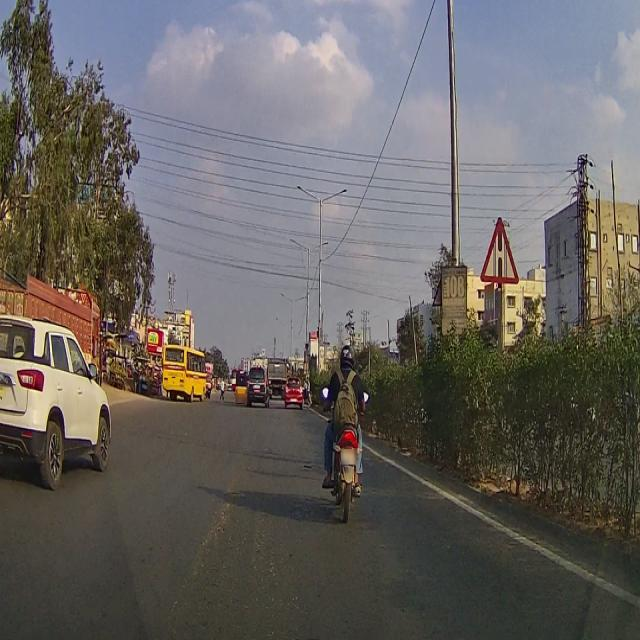gap-in-median: (479, 216, 517, 283)
